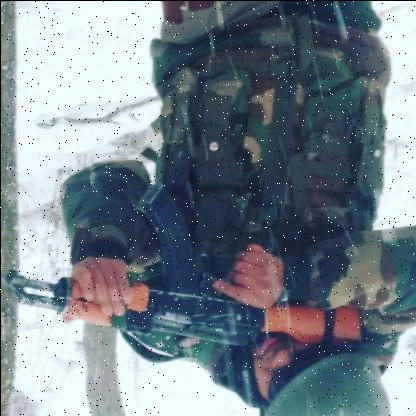rifle: (0, 177, 364, 348)
